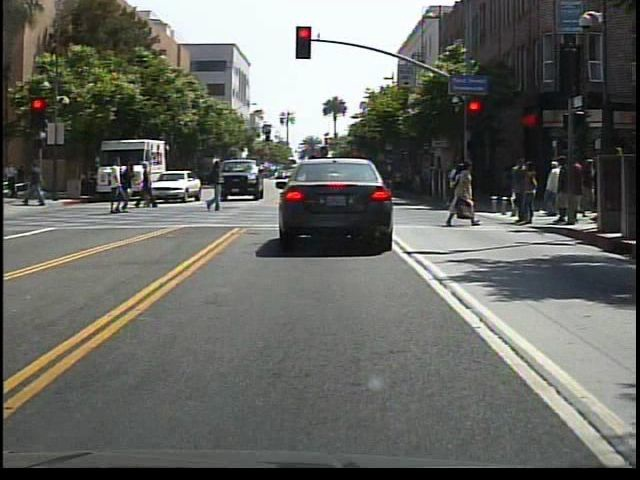person: (301, 130, 339, 236), (443, 159, 481, 227), (205, 160, 233, 216), (104, 157, 127, 220), (25, 161, 51, 213), (137, 160, 158, 213), (123, 164, 141, 215)
